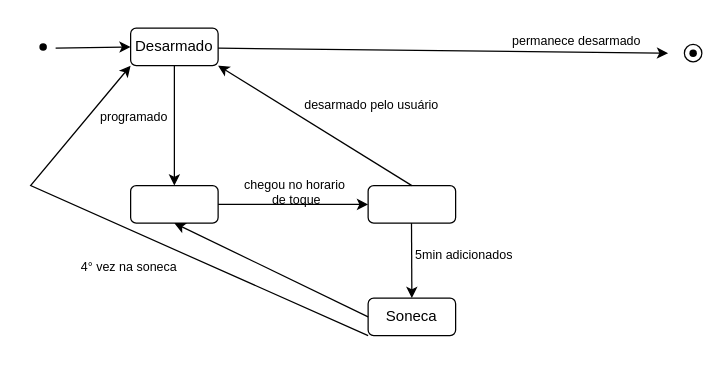
The diagram is 728 pixels wide and 368 high, and some of its shapes have lost their labels. The box of each missing label's shape, as (x1, y1, x2, y2) in pixels:
Armado: (129, 184, 218, 223)
Tocando 10 min: (367, 184, 456, 223)
